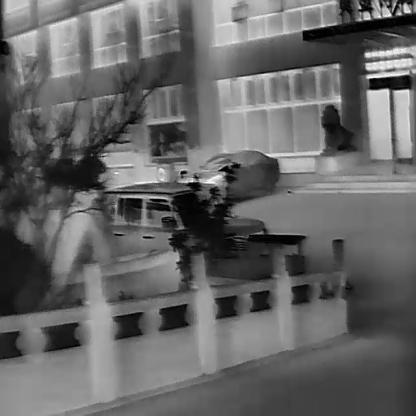car: (96, 179, 206, 234), (181, 148, 282, 200)
